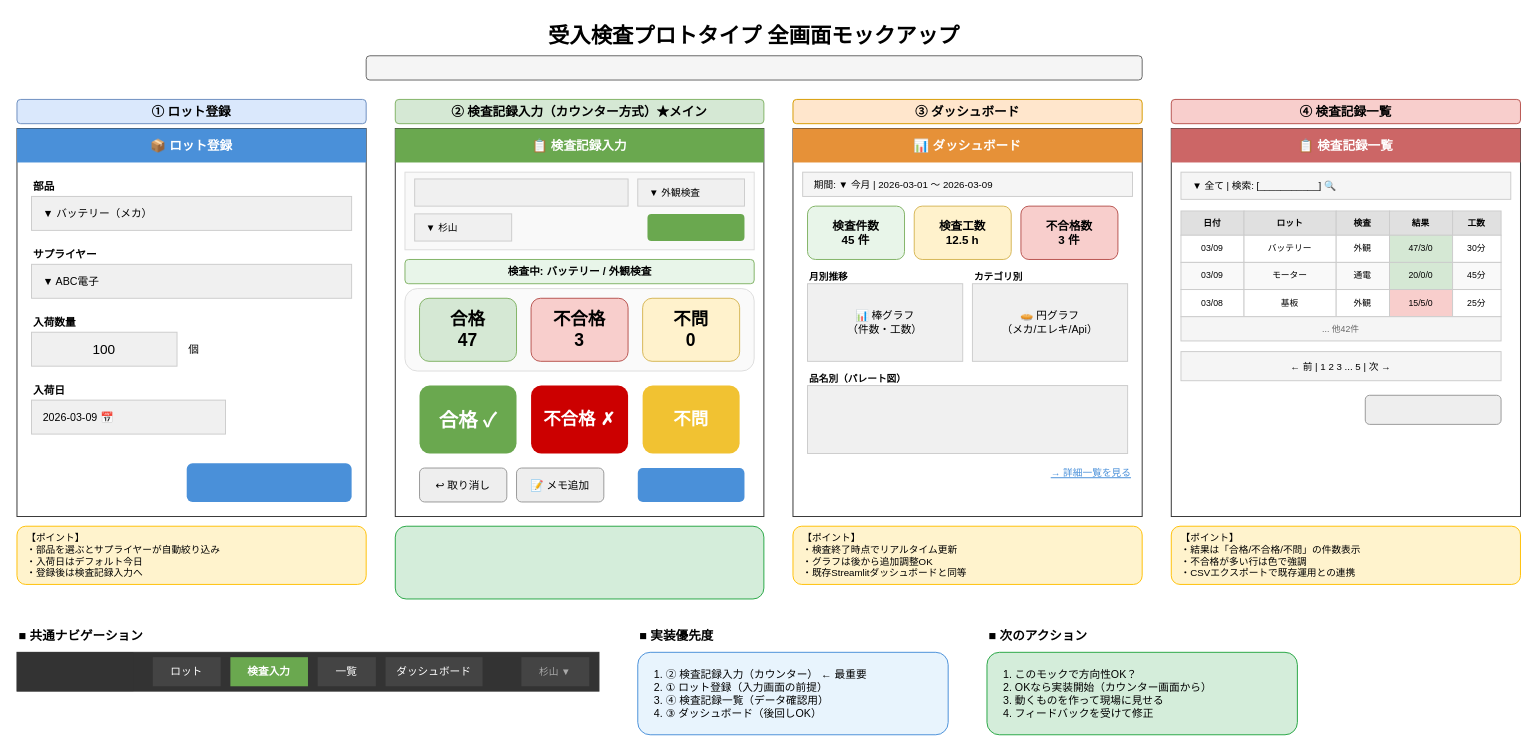
This 1537x752 diagram has some shape labels left out. Here are the shapes that lost their labels. From the top down, the box of each, then its label:
(365, 55, 1142, 80): フロー: ロット登録 → 検査記録入力（カウンター） → ダッシュボードで確認
(414, 178, 628, 206): ▼ LOT-20260309-001 (バッテリー 100個)
(647, 213, 744, 241): 検査開始
(807, 385, 1128, 453): 📈 パレート図 （上位品名の工数占有率）
(1364, 394, 1501, 424): 📥 CSVエクスポート
(186, 463, 351, 501): ロットを登録
(637, 468, 744, 501): 検査終了 →
(394, 525, 764, 599): 【ポイント】 ・ボタンを押すと即カウント（タップしやすい大きさ） ・取り消しで打ち間違い対応 ・メモは途中で追記可能 ・検査終了で工数入力→DB保存
(16, 652, 133, 691): 🏭 受入検査
